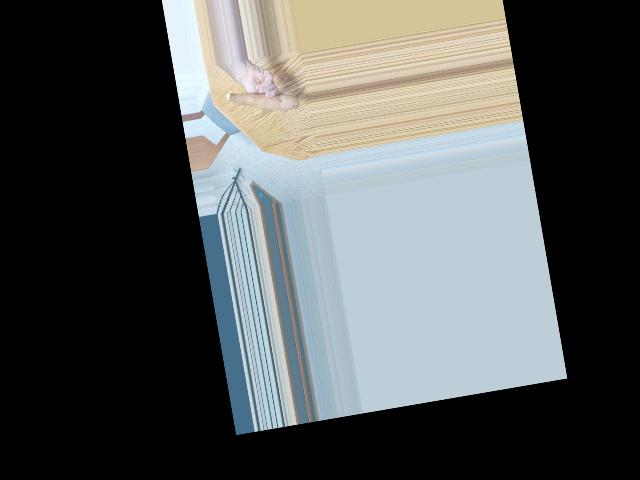sweet_potato: (223, 81, 298, 125)
